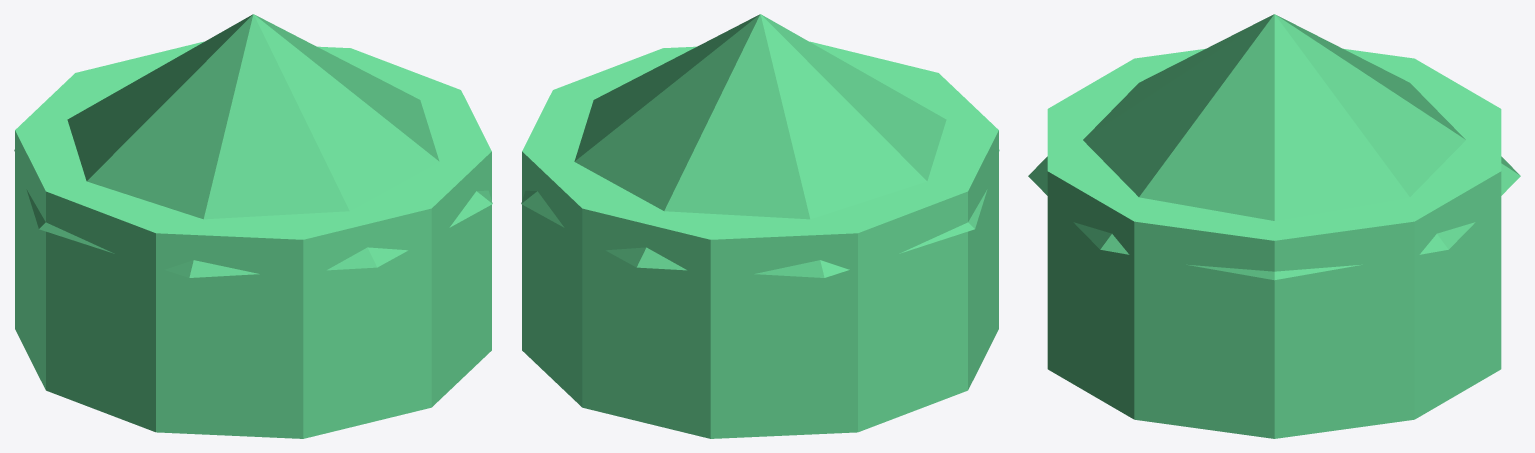
Rendered from Slime.glb.
The picture shows the model from 3 angles, left to right: view 1: azimuth 30°, elevation 25°; view 2: azimuth 150°, elevation 25°; view 3: azimuth 270°, elevation 25°; orthographic projection.
Parts seen in each view (by area): view 1: filler_Slime; view 2: filler_Slime; view 3: filler_Slime.
Part boxes in pixels (x1=…): filler_Slime: x1=14, y1=14, x2=492, y2=438; filler_Slime: x1=521, y1=14, x2=999, y2=438; filler_Slime: x1=1028, y1=14, x2=1520, y2=438.
Size of the model in its own units: 1.24 by 0.9 by 1.24.
